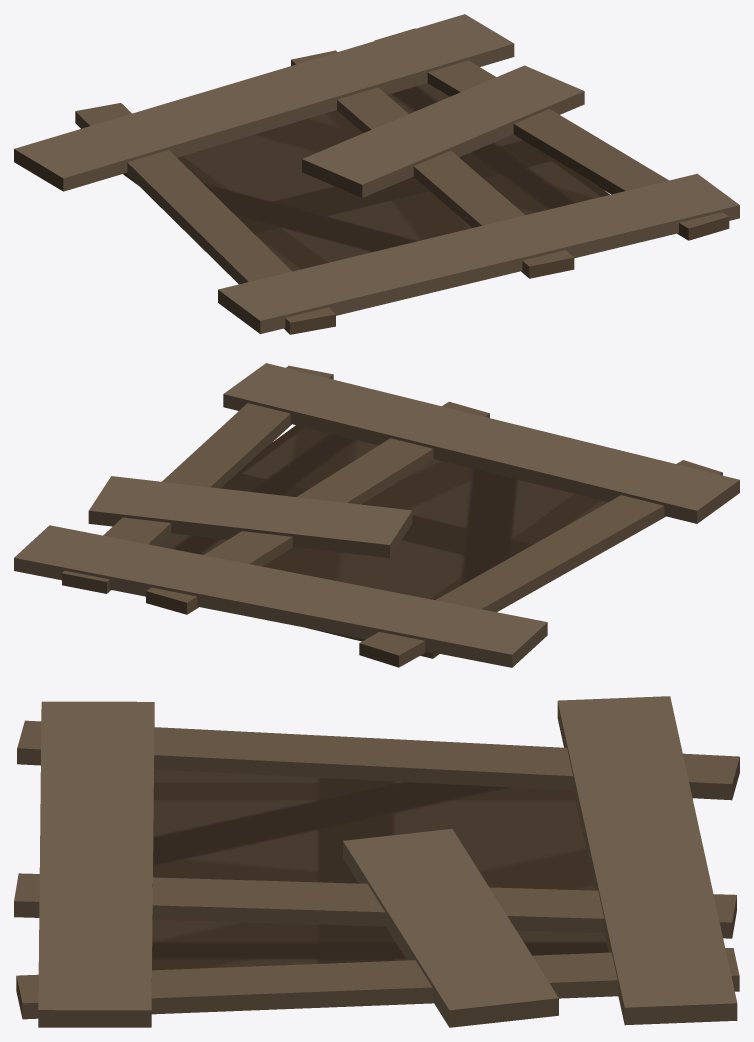
The model's file is SD_Env_Goblin_Platform_Small_02.fbx.
3 views of the same model, one above another, from view 1: azimuth 30°, elevation 25°; view 2: azimuth 150°, elevation 25°; view 3: azimuth 270°, elevation 25° (orthographic). The views are drawn at different scales.
Parts seen in each view (by area): view 1: SD_Env_Goblin_Platform_Small_02; view 2: SD_Env_Goblin_Platform_Small_02; view 3: SD_Env_Goblin_Platform_Small_02.
Part boxes in pixels (x1,y1,x2,y2): SD_Env_Goblin_Platform_Small_02: [14, 14, 739, 334]; SD_Env_Goblin_Platform_Small_02: [14, 363, 739, 667]; SD_Env_Goblin_Platform_Small_02: [14, 696, 739, 1027].
Size of the model in its own units: 5.39 by 0.1983 by 5.26.
